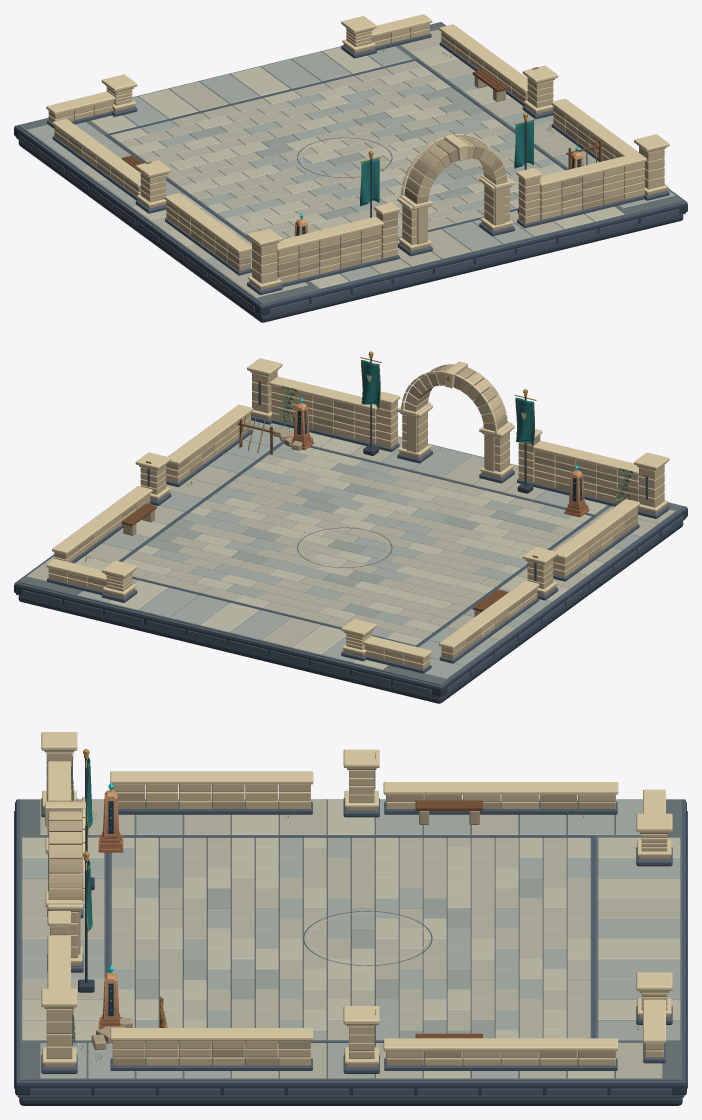
Rendered from TrainingCourtyard_EnvironmentOnly.fbx.
3 renders of one model, top to bottom at view 1: azimuth 30°, elevation 25°; view 2: azimuth 150°, elevation 25°; view 3: azimuth 270°, elevation 25°, orthographic. The views are drawn at different scales.
Visible parts, largest first — view 1: Courtyard_Paving_Flat20mCore, Courtyard_Foundation, Courtyard_SideWall, Courtyard_RearWall, Courtyard_RearCornerPillar, Courtyard_GatePier, Courtyard_Gate_Arch, Courtyard_FrontReturn, Courtyard_SidePillar, Courtyard_RearStepWall, Courtyard_EntryPillar, Banner_Teal_1 (+2 smaller); view 2: Courtyard_Paving_Flat20mCore, Courtyard_Foundation, Courtyard_SideWall, Courtyard_RearWall, Courtyard_FrontReturn, Courtyard_GatePier, Courtyard_RearCornerPillar, Courtyard_Gate_Arch, Courtyard_SidePillar, Courtyard_EntryPillar, Courtyard_RearStepWall, Banner_Teal_1 (+5 smaller); view 3: Courtyard_Paving_Flat20mCore, Courtyard_SideWall, Courtyard_Foundation, Courtyard_SidePillar, Courtyard_RearCornerPillar, Courtyard_Gate_Arch, Courtyard_EntryPillar, Courtyard_RearWall, Courtyard_FrontReturn, Courtyard_GatePier, Meshy_RuneObelisk_1_0, Bench_Oak_1 (+4 smaller).
Boxes of the visible parts, left/top/right/bottom form: Courtyard_Paving_Flat20mCore: left=18, top=22, right=683, bottom=304; Courtyard_Foundation: left=14, top=22, right=687, bottom=322; Courtyard_SideWall: left=52, top=24, right=638, bottom=275; Courtyard_RearWall: left=277, top=152, right=646, bottom=287; Courtyard_RearCornerPillar: left=247, top=134, right=669, bottom=294; Courtyard_GatePier: left=397, top=175, right=514, bottom=256; Courtyard_Gate_Arch: left=404, top=135, right=507, bottom=204; Courtyard_FrontReturn: left=46, top=14, right=432, bottom=128; Courtyard_SidePillar: left=135, top=65, right=558, bottom=213; Courtyard_RearStepWall: left=374, top=168, right=542, bottom=262; Courtyard_EntryPillar: left=101, top=16, right=376, bottom=116; Banner_Teal_1: left=360, top=150, right=381, bottom=217; Courtyard_Paving_Flat20mCore: left=18, top=420, right=683, bottom=685; Courtyard_Foundation: left=14, top=436, right=687, bottom=703; Courtyard_SideWall: left=52, top=404, right=639, bottom=663; Courtyard_RearWall: left=269, top=376, right=639, bottom=506; Courtyard_FrontReturn: left=46, top=558, right=432, bottom=673; Courtyard_GatePier: left=397, top=402, right=514, bottom=483; Courtyard_RearCornerPillar: left=247, top=358, right=669, bottom=518; Courtyard_Gate_Arch: left=404, top=361, right=507, bottom=431; Courtyard_SidePillar: left=135, top=452, right=558, bottom=600; Courtyard_EntryPillar: left=101, top=560, right=376, bottom=661; Courtyard_RearStepWall: left=375, top=391, right=542, bottom=484; Banner_Teal_1: left=514, top=389, right=536, bottom=493; Courtyard_Paving_Flat20mCore: left=20, top=799, right=681, bottom=1080; Courtyard_SideWall: left=110, top=771, right=618, bottom=1070; Courtyard_Foundation: left=14, top=799, right=687, bottom=1105; Courtyard_SidePillar: left=343, top=749, right=379, bottom=1073; Courtyard_RearCornerPillar: left=41, top=732, right=77, bottom=1073; Courtyard_Gate_Arch: left=45, top=800, right=85, bottom=899; Courtyard_EntryPillar: left=636, top=813, right=672, bottom=1024; Courtyard_RearWall: left=47, top=761, right=70, bottom=988; Courtyard_FrontReturn: left=643, top=789, right=665, bottom=1063; Courtyard_GatePier: left=45, top=837, right=85, bottom=972; Meshy_RuneObelisk_1_0: left=98, top=782, right=123, bottom=852; Bench_Oak_1: left=415, top=800, right=482, bottom=824.
Size of the model in its own units: 28.09 by 7.69 by 28.09.
20 materials, 1 textured.
